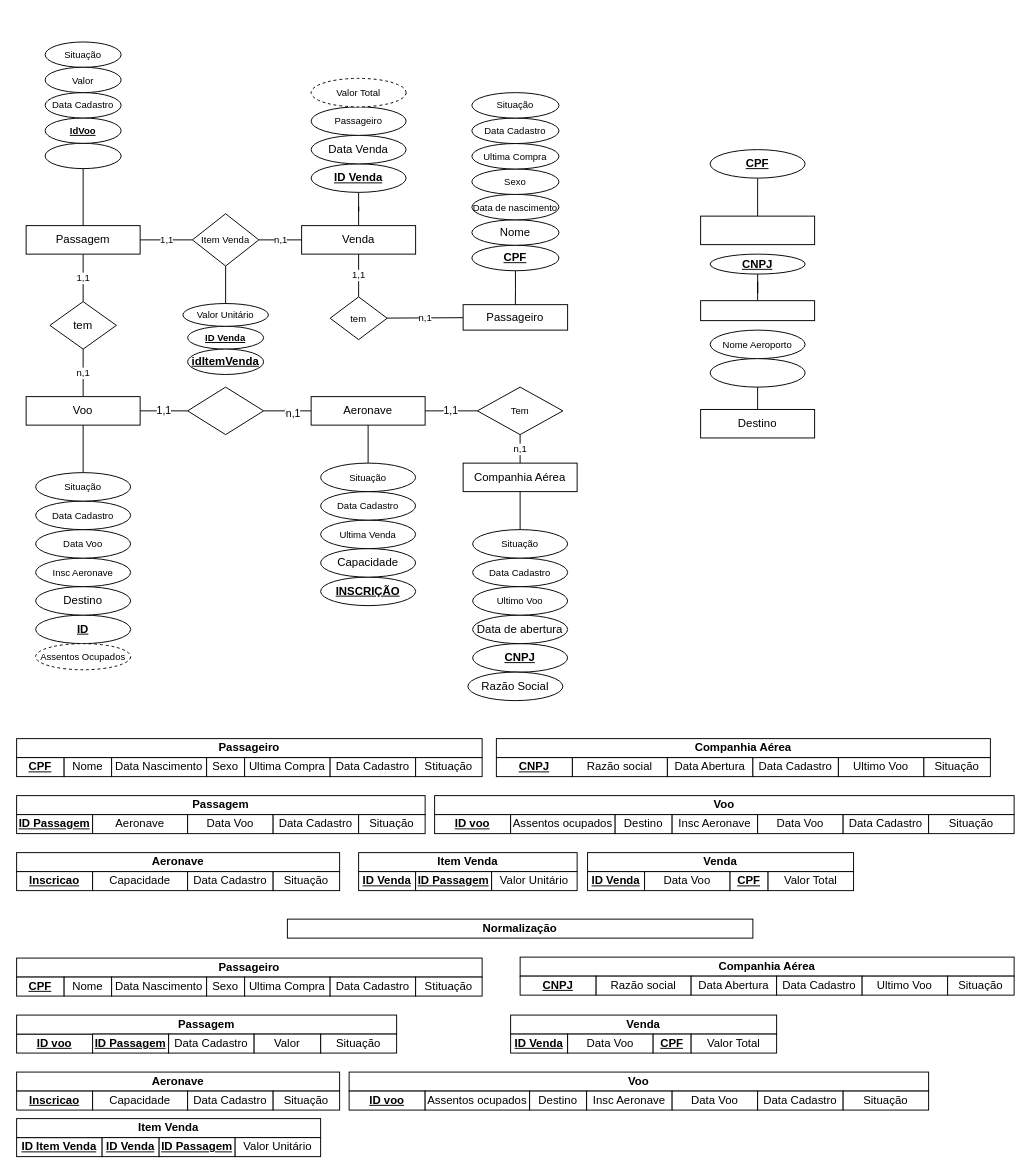
The diagram is 1031 pixels wide and 1173 high, and some of its shapes have lost their labels. Here are the shapes that lost their labels. From the top down, the centre of each, then its label:
[82,155]: IDPassagem
[757,230]: Restritos
[757,310]: Bloqueados
[757,372]: IATA
[225,410]: Realiza
